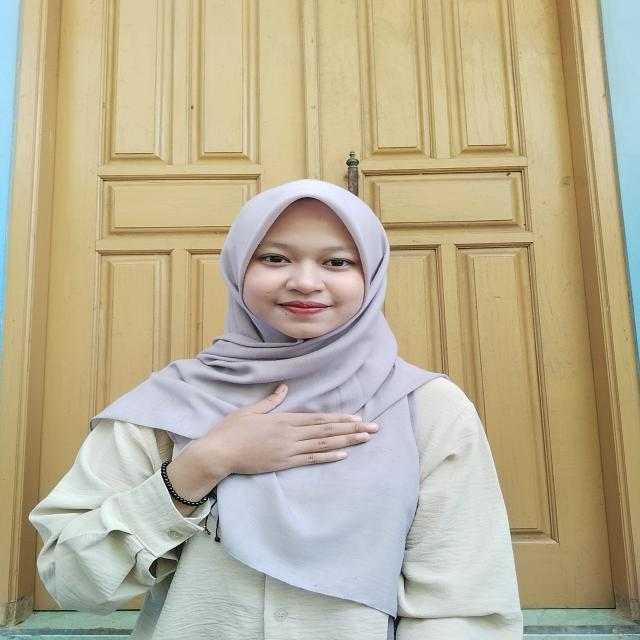tolong: (149, 382, 382, 508)
